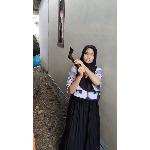Kapak: (66, 44, 87, 80)
